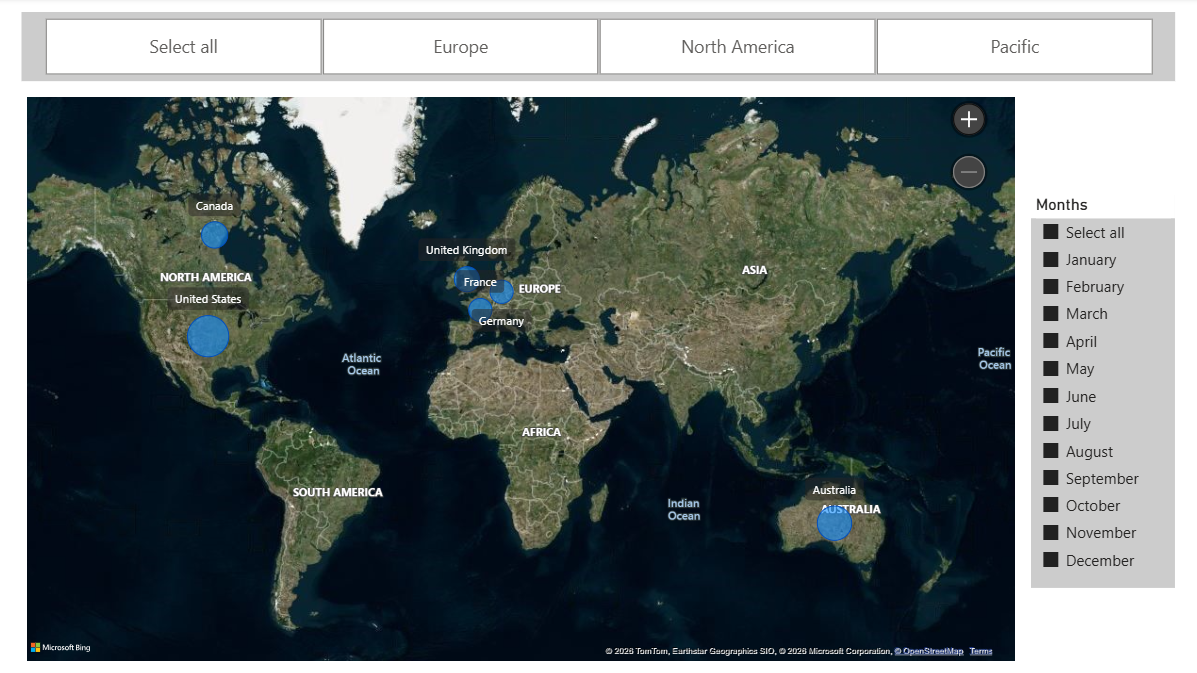

The dashboard page shown, as its layout file describes it:
{"tool":"powerbi","page":{"name":"Map","canvas":[1280,720],"ordinal":13},"visuals":[{"type":"map","fields":{"Category":["Territories_lookup.Country"],"Size":["Sales Data.Total Orders"]},"box":[27,100.2,1059.3,609.2],"z":0},{"type":"slicer","fields":{"Values":["Territories_lookup.Continent"]},"box":[27,15.9,1223.2,73.2],"z":1000},{"type":"slicer","title":"Months","fields":{"Values":["Calendar_lookup.Month Name"]},"box":[1097.5,210,152.7,416.7],"z":4000}]}

Visuals, with their boxes in screenshot pixels (x1, y1, x2, y2), scaled from the page's 1280x720 canvas onto the 1197x673 screenshot:
map - Territories_lookup.Country x Sales Data.Total Orders: (left=25, top=94, right=1016, bottom=663)
slicer - Territories_lookup.Continent: (left=25, top=15, right=1169, bottom=83)
"Months" slicer: (left=1026, top=196, right=1169, bottom=586)
